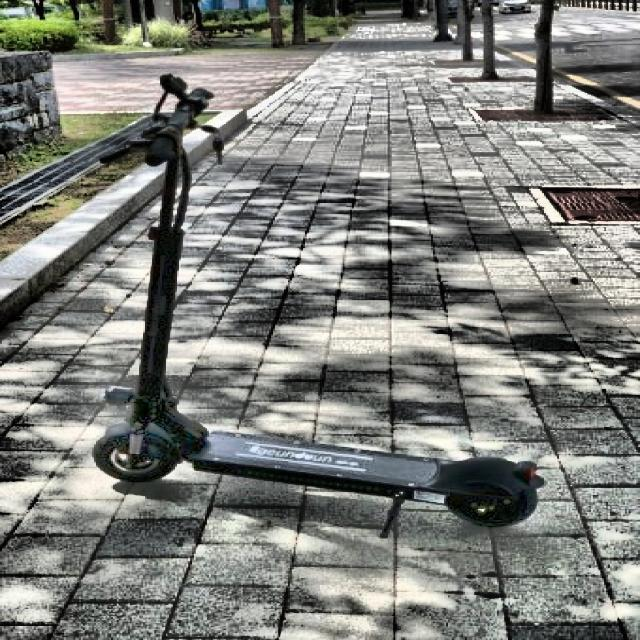bike: (93, 73, 547, 538), (93, 385, 545, 537)
car: (498, 0, 532, 15)
